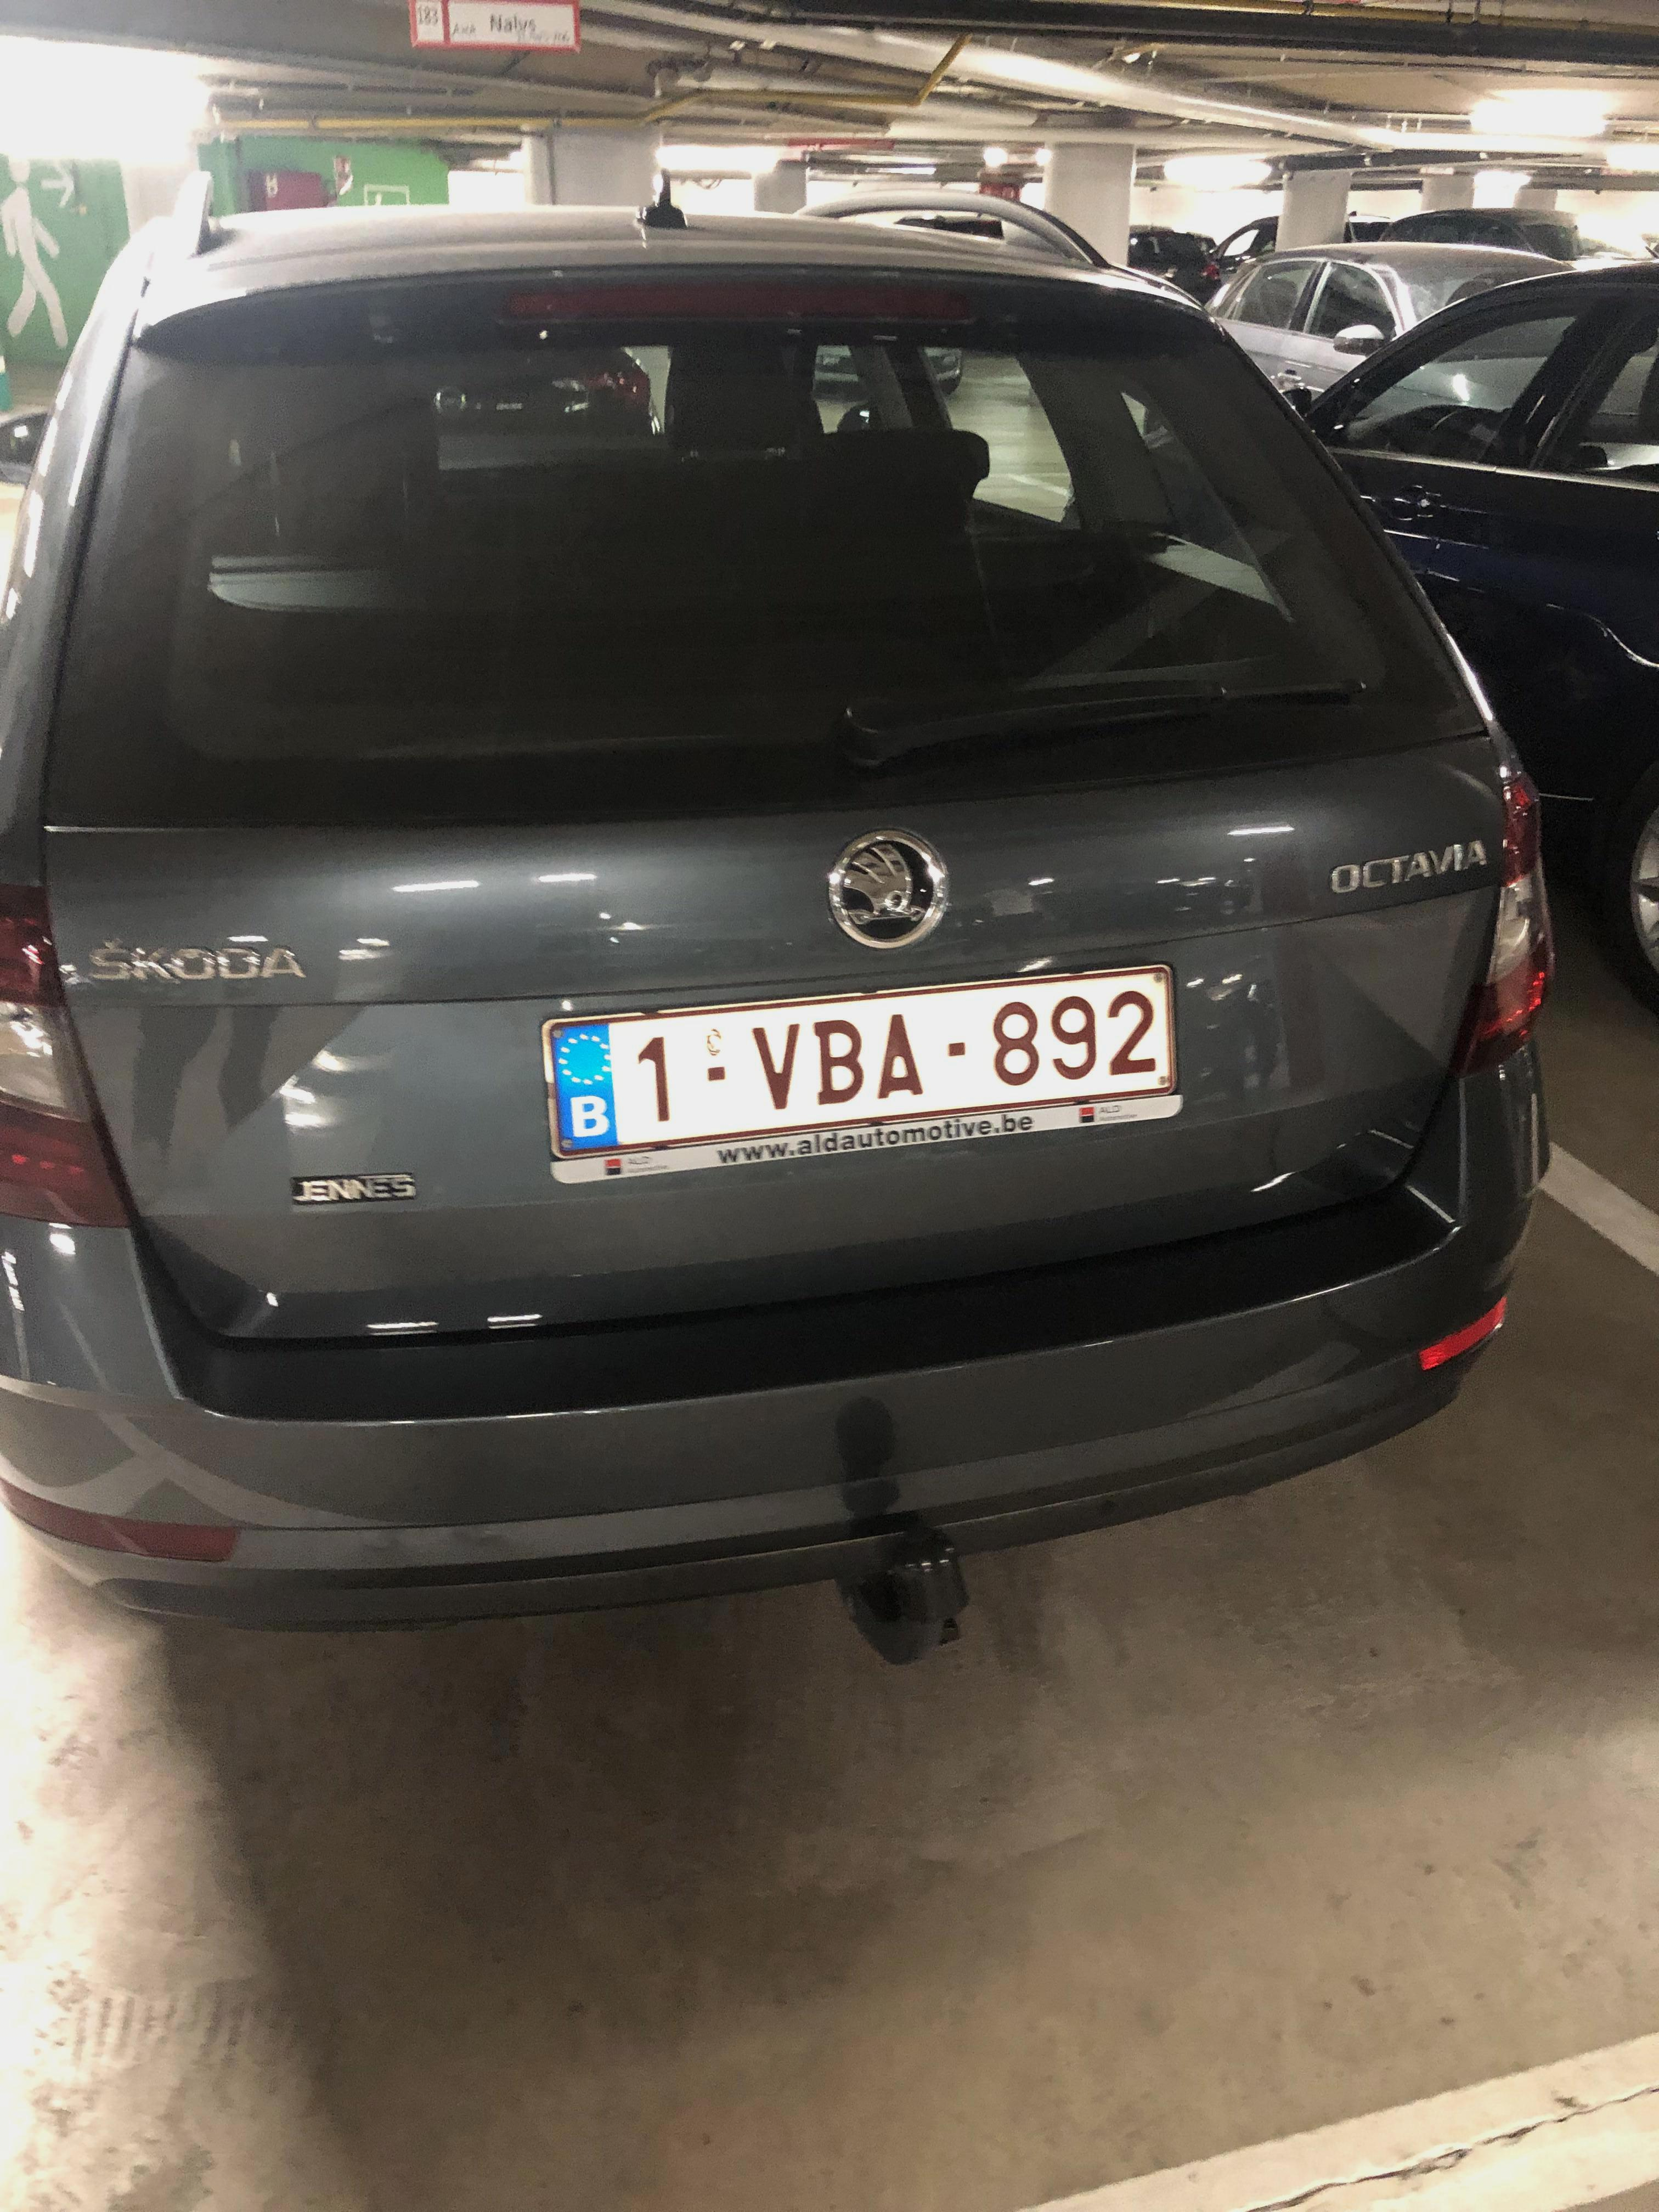plate: (517, 960, 1210, 1167)
